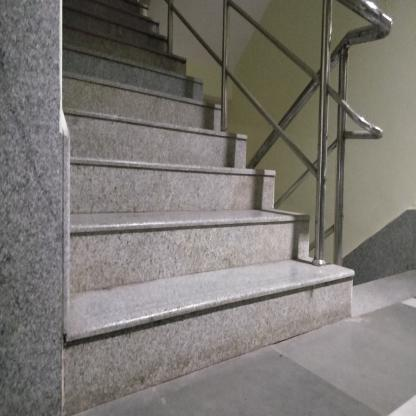stairs: (73, 132, 247, 393)
